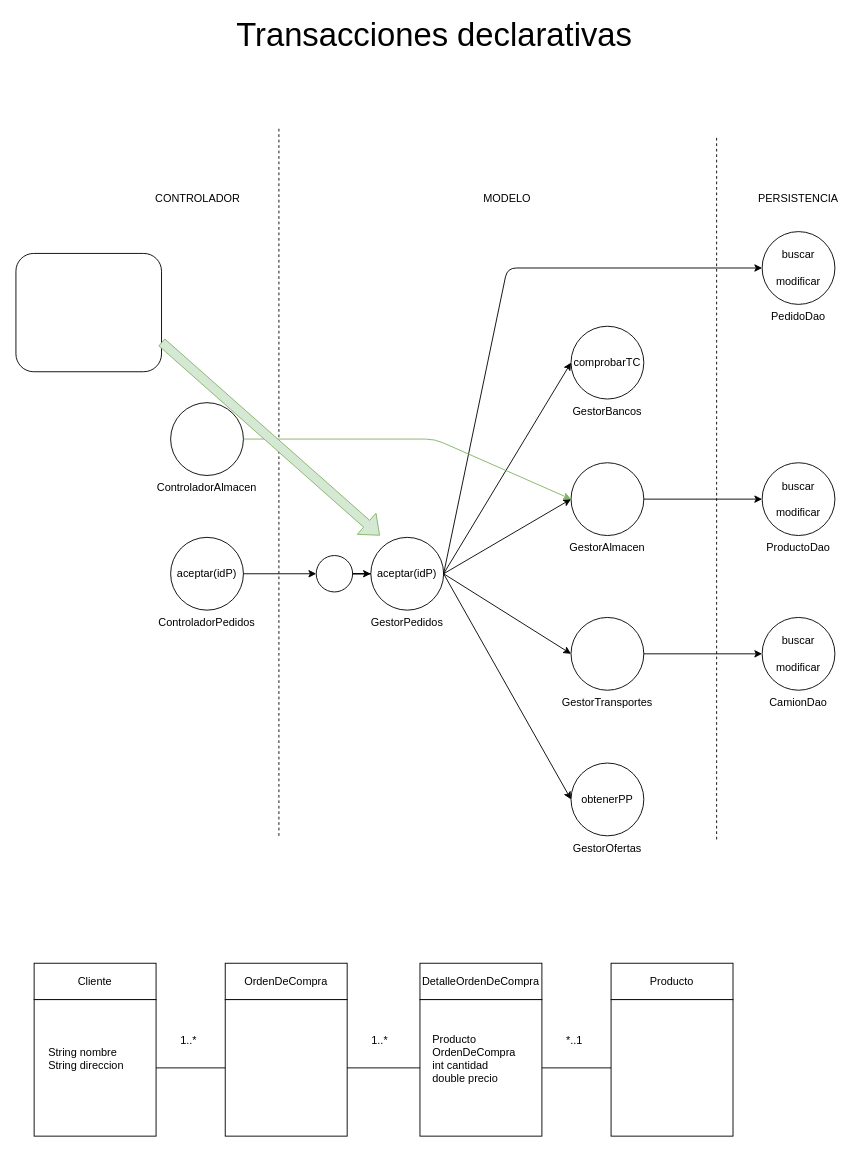
This 854x1152 diagram has some shape labels left out. Each missing label, with the box of its shape:
@Tx REQUIRED REQUIRES_NEW MANDATORY SUPPORTS: (15, 253, 162, 372)
comprobarEx reducirEx: (570, 462, 644, 536)
Date fecha CodigoODC Cliente lcliente <Detalle>: (224, 999, 347, 1136)
obtenerCamión: (570, 617, 644, 690)
String nombre String fabricante <Caracteristica>: (610, 999, 733, 1136)
